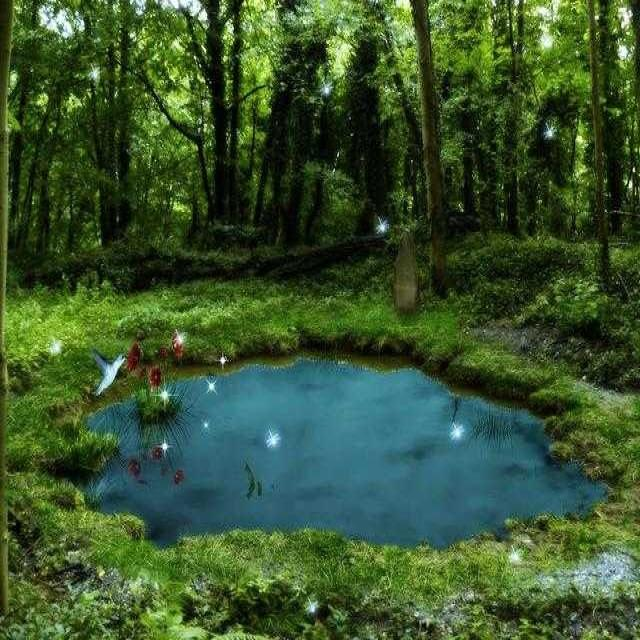Ponds: (64, 355, 614, 551)
